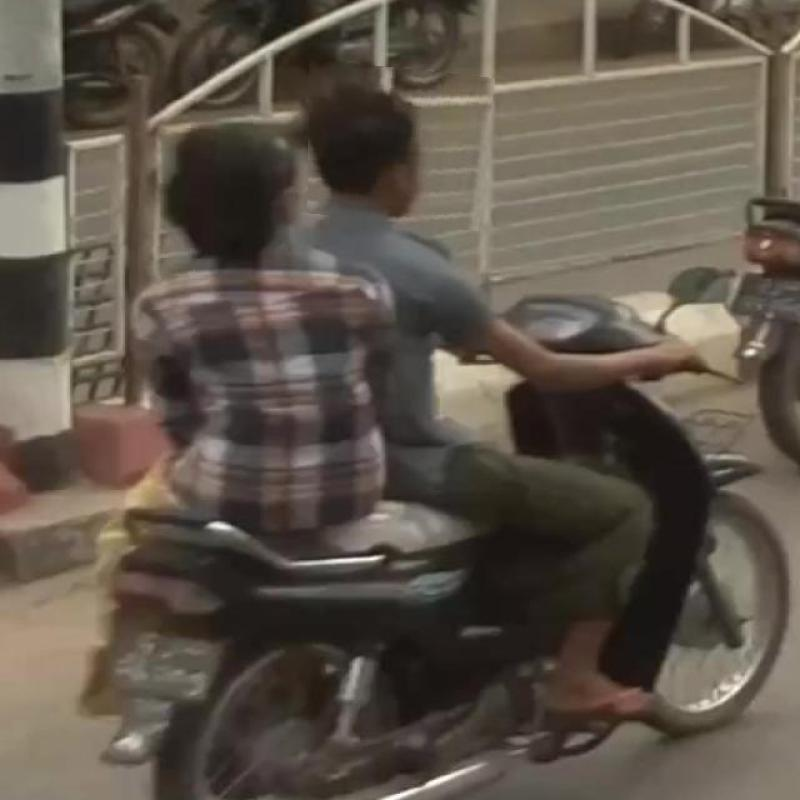nohelmet: (298, 63, 491, 227), (140, 101, 308, 278)
